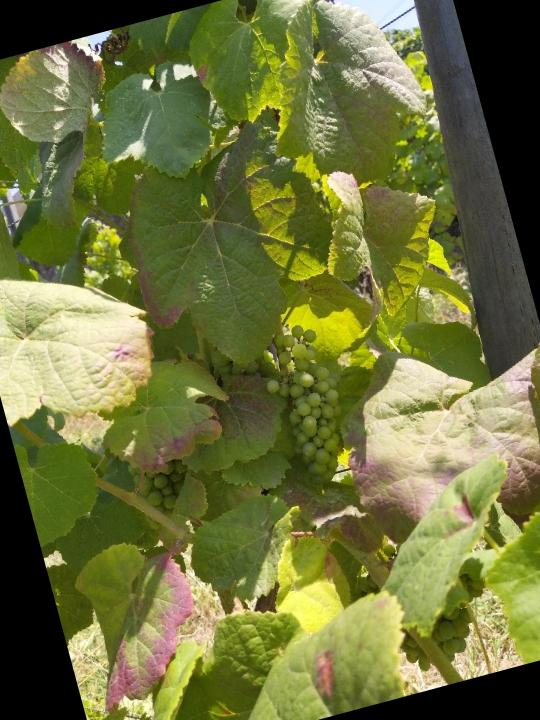grape: (252, 317, 364, 492)
